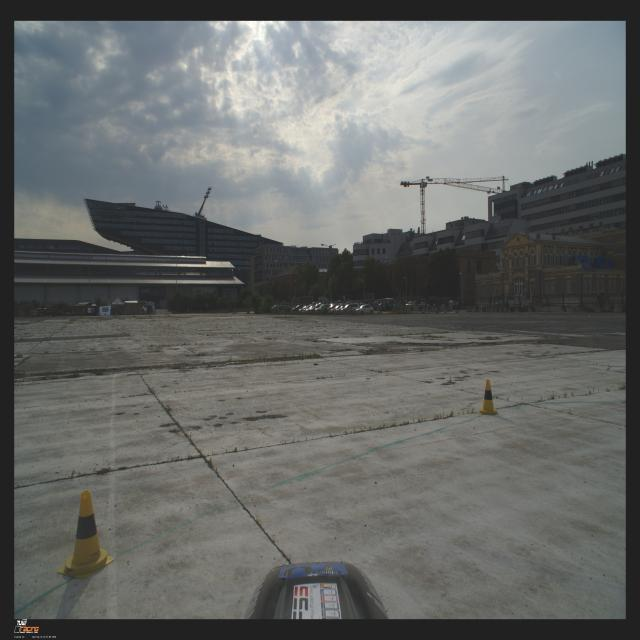yellow_cone: (56, 491, 115, 579), (478, 380, 498, 416)
